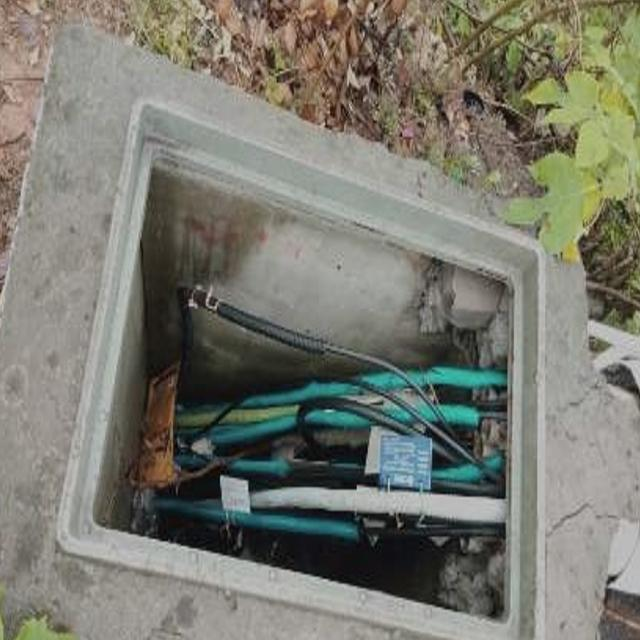lose: (55, 96, 546, 640)
